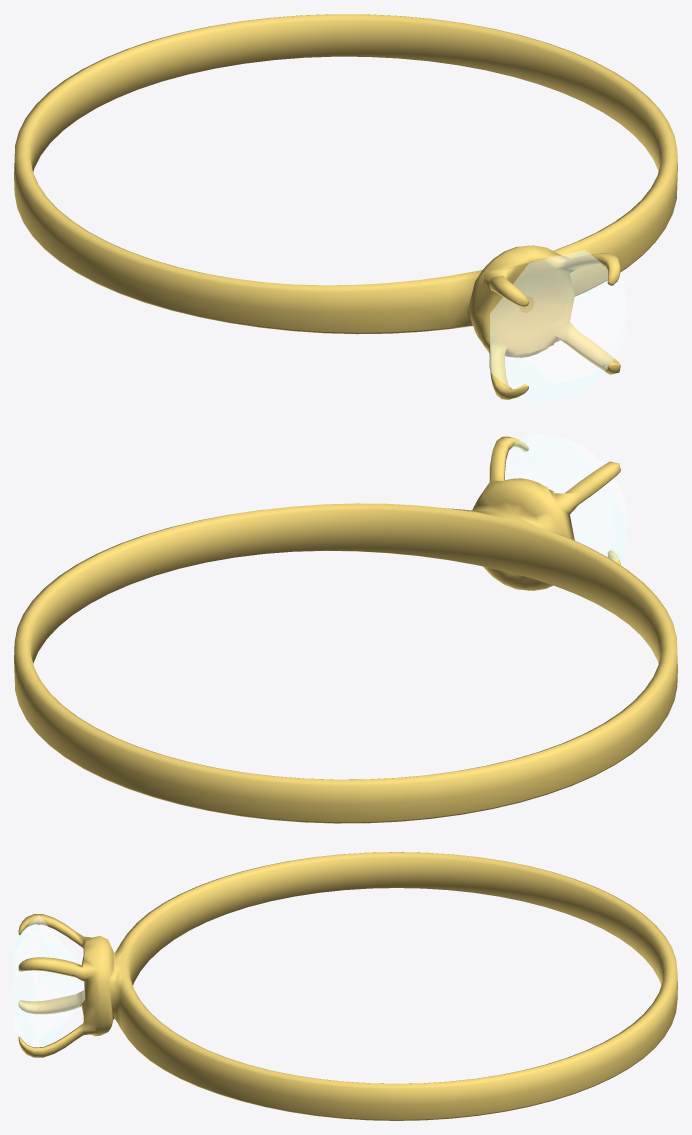
The model's file is GOLD_RING.fbx.
The picture shows the model from 3 angles, top to bottom: view 1: azimuth 30°, elevation 25°; view 2: azimuth 150°, elevation 25°; view 3: azimuth 270°, elevation 25°; orthographic projection. The views are drawn at different scales.
Visible parts, largest first — view 1: Cylinder, Gem; view 2: Cylinder, Gem; view 3: Cylinder, Gem.
Boxes of the visible parts, bbox=[...] form: Cylinder: bbox=[14, 14, 677, 399]; Gem: bbox=[490, 250, 626, 403]; Cylinder: bbox=[14, 436, 677, 823]; Gem: bbox=[505, 432, 626, 561]; Cylinder: bbox=[18, 852, 677, 1120]; Gem: bbox=[14, 915, 84, 1046].
Bounding box in the file's own units: 199 × 46.43 × 234.
